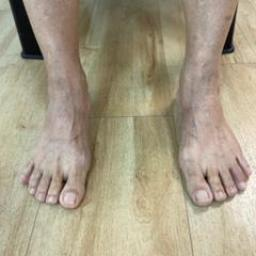Dorsal View -Both Feet-: (14, 65, 254, 221)
